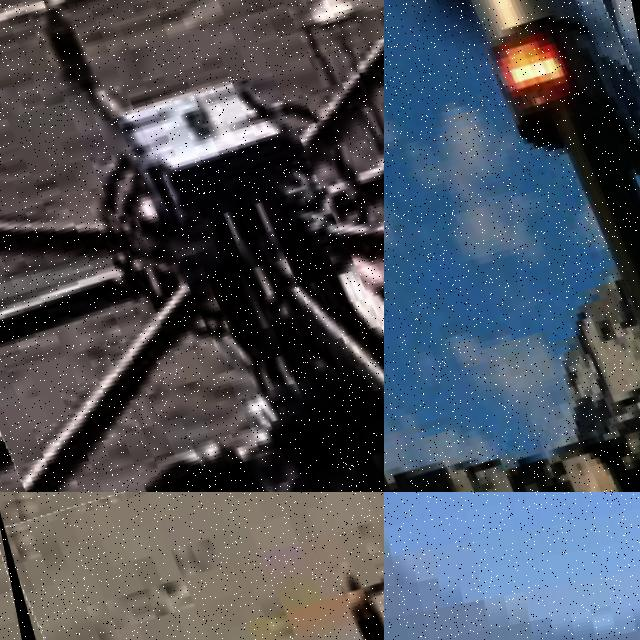0: (0, 0, 384, 492), (0, 492, 384, 640)
drone: (384, 0, 640, 492)
